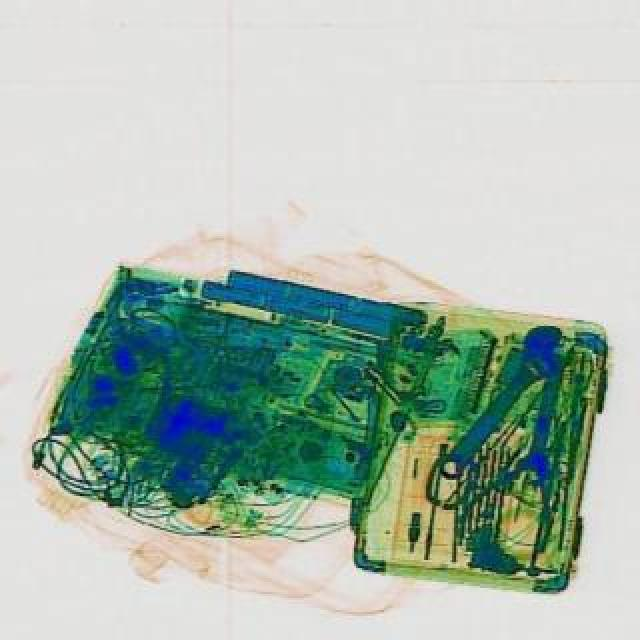scissors: (422, 314, 582, 494), (510, 340, 574, 488)
